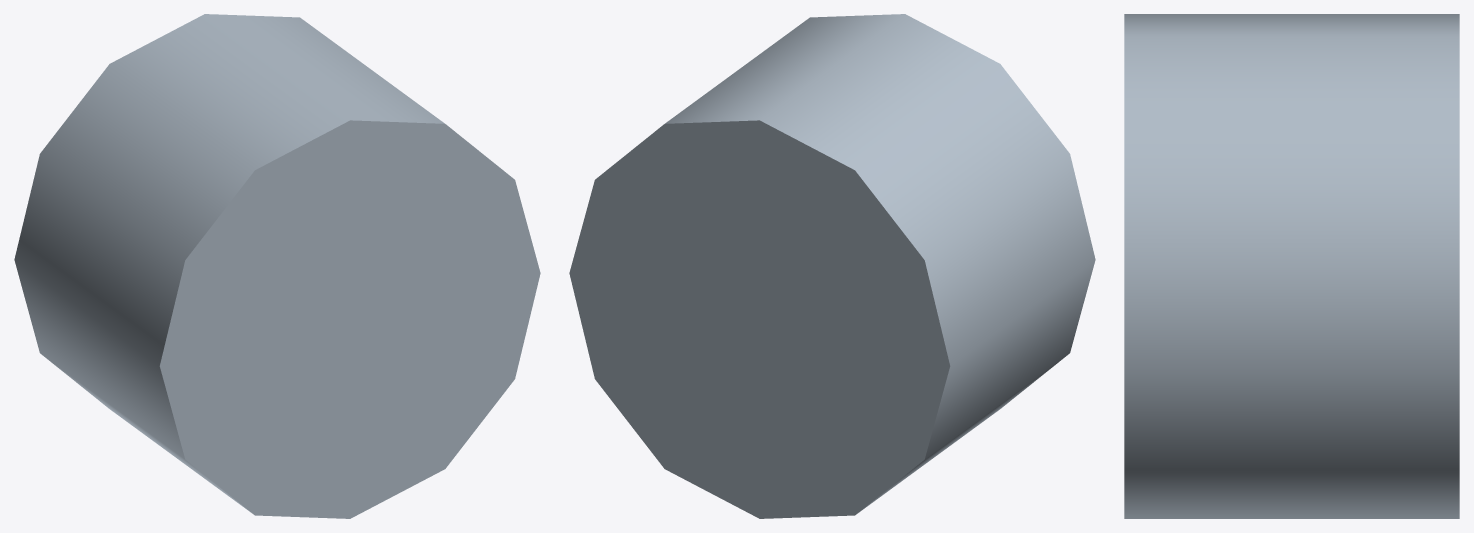
File: sim_cer_r_upperarm_sensor.dae
The picture shows the model from 3 angles, left to right: view 1: azimuth 30°, elevation 25°; view 2: azimuth 150°, elevation 25°; view 3: azimuth 270°, elevation 25°; orthographic projection. The views are drawn at different scales.
Visible parts, largest first — view 1: mynode; view 2: mynode; view 3: mynode.
Boxes of the visible parts, x1=… form: mynode: x1=14, y1=14, x2=540, y2=518; mynode: x1=569, y1=14, x2=1095, y2=518; mynode: x1=1124, y1=14, x2=1459, y2=518.
Size of the model in its own units: 45 by 45 by 29.75.
